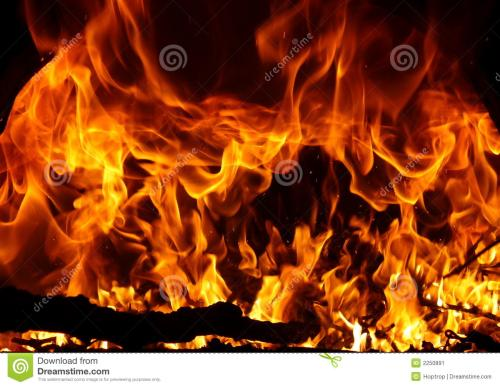fire: (22, 45, 498, 323)
